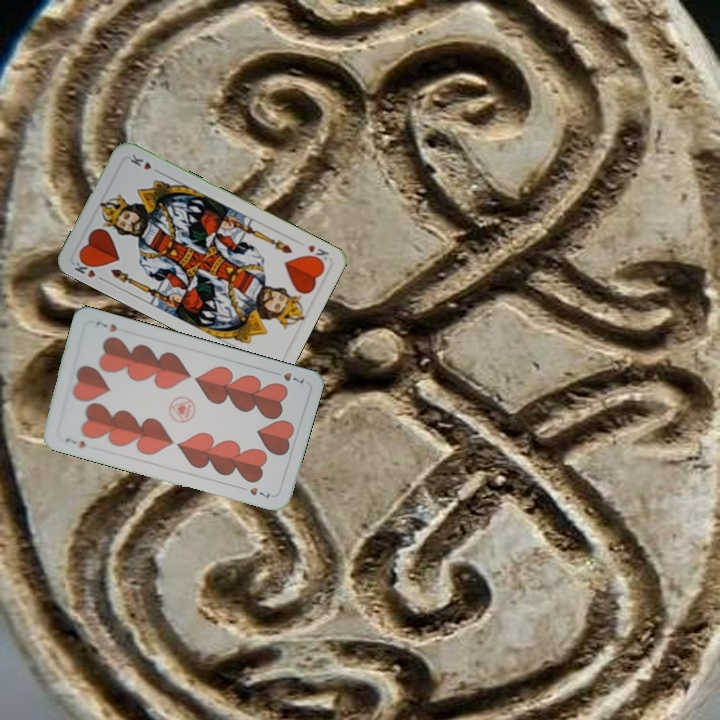H7: (268, 367, 307, 386), (61, 433, 88, 451)
HK: (70, 254, 108, 284), (303, 241, 331, 266)
